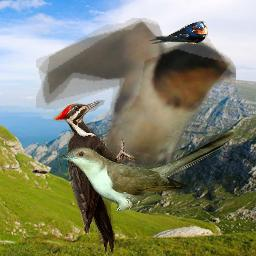Cuckoo: (58, 130, 235, 211)
Swallow: (36, 18, 236, 179), (149, 21, 208, 44)
Woodpecker: (53, 100, 135, 255)
